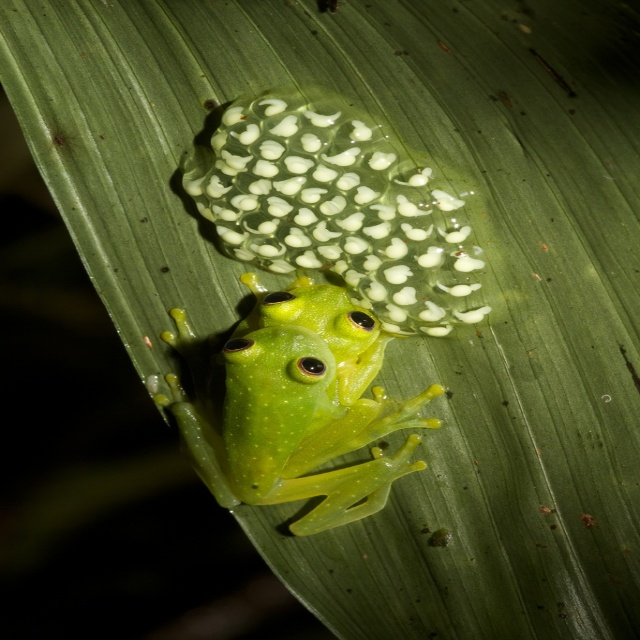Frog: (143, 273, 442, 536)
